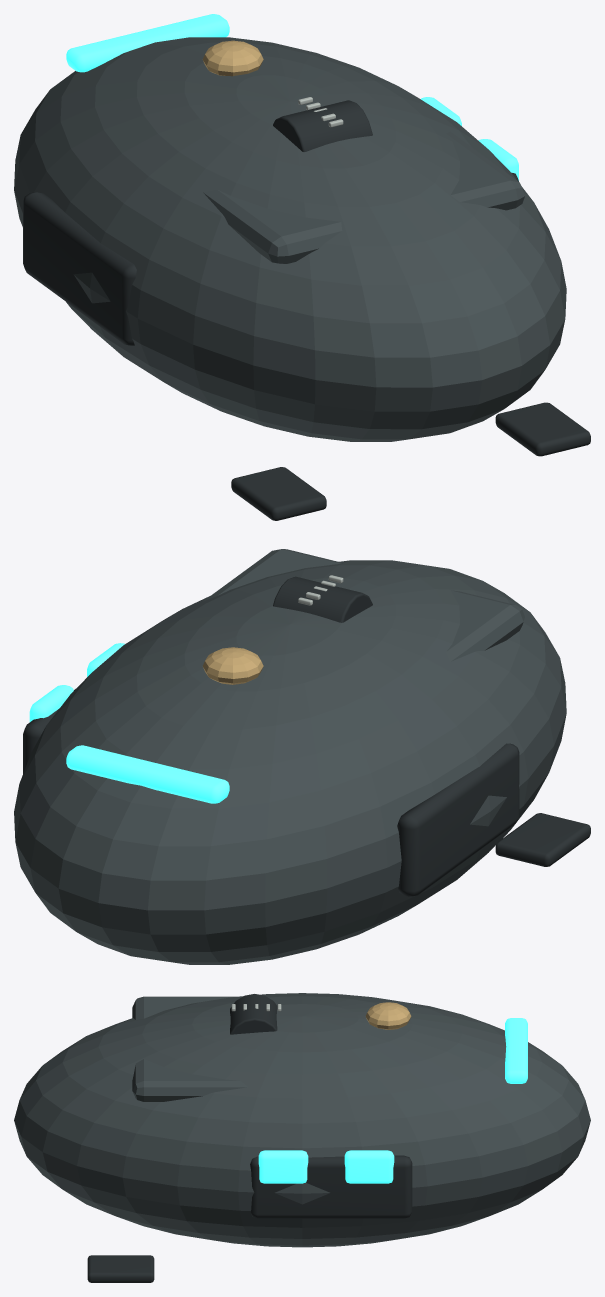
Rendered from mouse_charcoal.glb.
3 views of the same model, one above another, from view 1: azimuth 30°, elevation 25°; view 2: azimuth 150°, elevation 25°; view 3: azimuth 270°, elevation 25° (orthographic). The views are drawn at different scales.
Parts seen in each view (by area): view 1: mouse_charcoal_Charcoal_shell, mouse_charcoal_Soft_black_rubber, mouse_charcoal_RGB_cyan, mouse_charcoal_Brushed_warm_metal; view 2: mouse_charcoal_Charcoal_shell, mouse_charcoal_Soft_black_rubber, mouse_charcoal_RGB_cyan, mouse_charcoal_Brushed_warm_metal; view 3: mouse_charcoal_Charcoal_shell, mouse_charcoal_Soft_black_rubber, mouse_charcoal_RGB_cyan, mouse_charcoal_Brushed_warm_metal.
Part boxes in pixels (box(x1,y1,x2,y2)): mouse_charcoal_Charcoal_shell: box(14, 37, 566, 441); mouse_charcoal_Soft_black_rubber: box(23, 100, 590, 520); mouse_charcoal_RGB_cyan: box(66, 14, 518, 180); mouse_charcoal_Brushed_warm_metal: box(202, 40, 263, 76); mouse_charcoal_Charcoal_shell: box(14, 549, 566, 964); mouse_charcoal_Soft_black_rubber: box(23, 576, 590, 896); mouse_charcoal_RGB_cyan: box(29, 643, 229, 803); mouse_charcoal_Brushed_warm_metal: box(202, 647, 263, 684); mouse_charcoal_Charcoal_shell: box(14, 993, 590, 1247); mouse_charcoal_Soft_black_rubber: box(87, 994, 412, 1282); mouse_charcoal_RGB_cyan: box(258, 1018, 527, 1183); mouse_charcoal_Brushed_warm_metal: box(365, 1002, 411, 1029).
Size of the model in its own units: 0.183 by 0.128 by 0.302.
